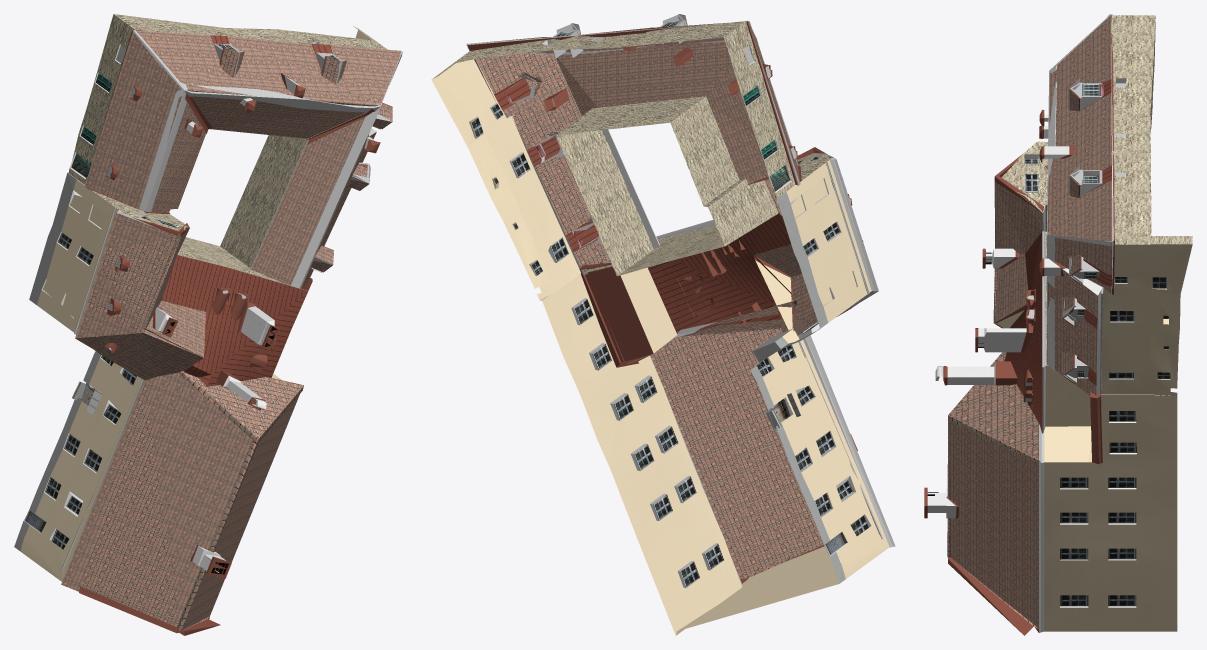
File: Kohtu_10-origo.obj
3 renders of one model, left to right at view 1: azimuth 30°, elevation 25°; view 2: azimuth 150°, elevation 25°; view 3: azimuth 270°, elevation 25°, orthographic. The views are drawn at different scales.
Visible parts, largest first — view 1: Kohtu_10; view 2: Kohtu_10; view 3: Kohtu_10.
Part boxes in pixels (x1,y1,x2,y2): Kohtu_10: (14,14,402,635); Kohtu_10: (431,14,895,635); Kohtu_10: (924,14,1192,635).
Size of the model in its own units: 40.75 by 59.5 by 24.22.
